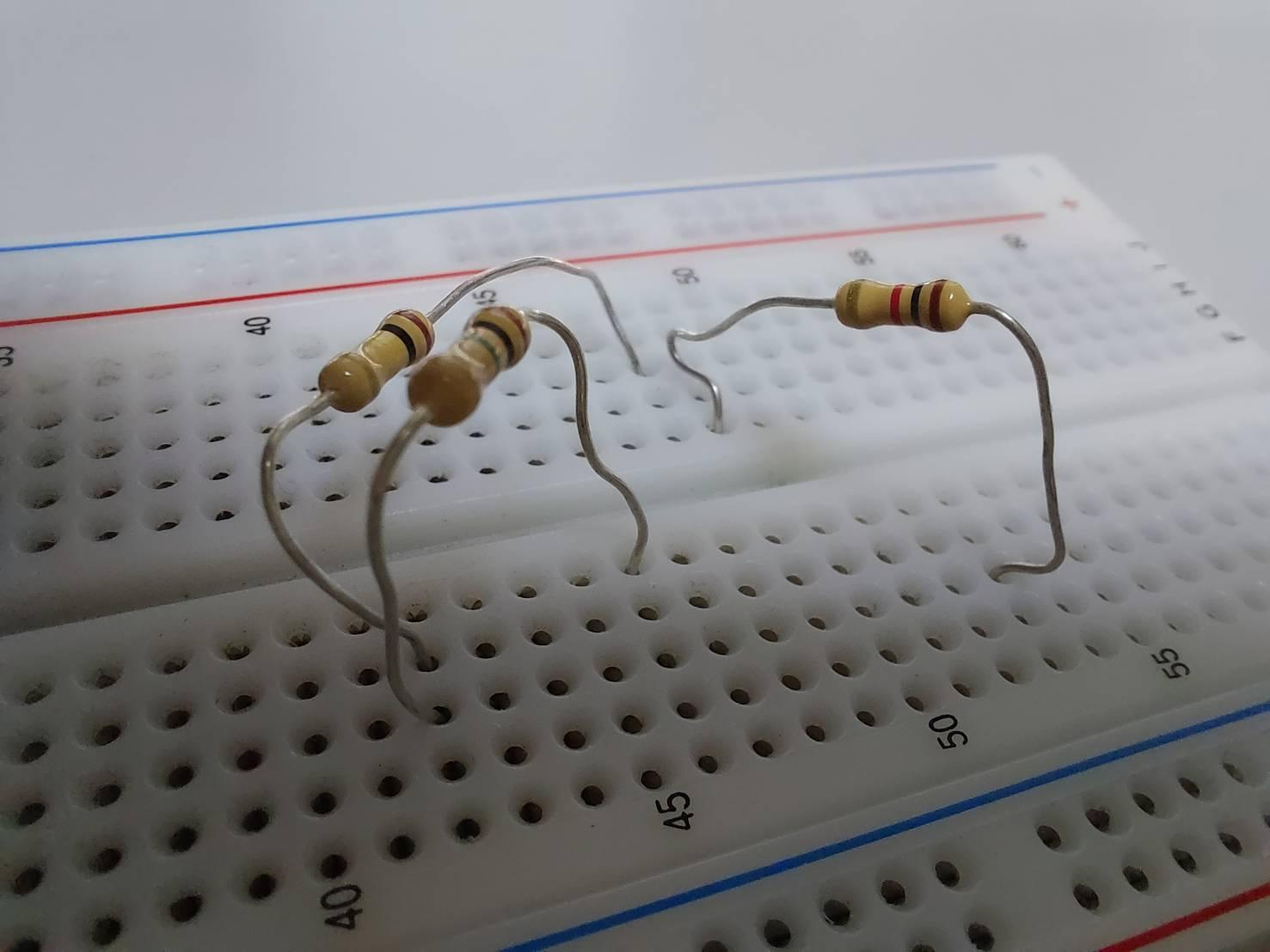resistor: (420, 299, 533, 424), (318, 302, 417, 411), (834, 276, 974, 332)
